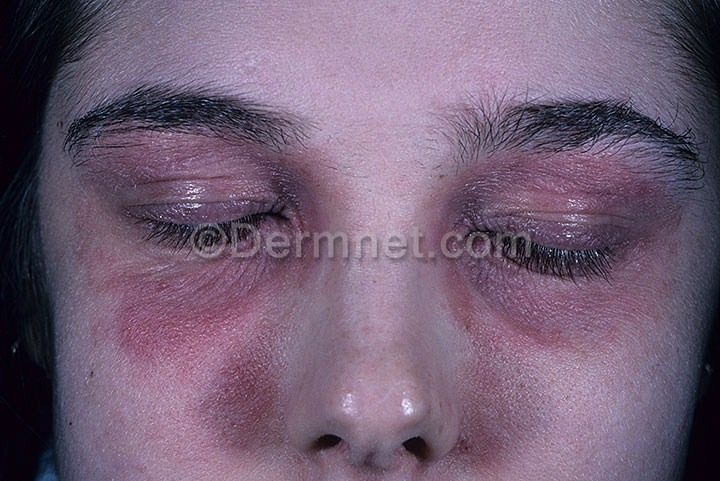Eczema: (72, 234, 302, 455), (456, 265, 679, 481), (464, 158, 682, 207), (78, 144, 269, 177)
